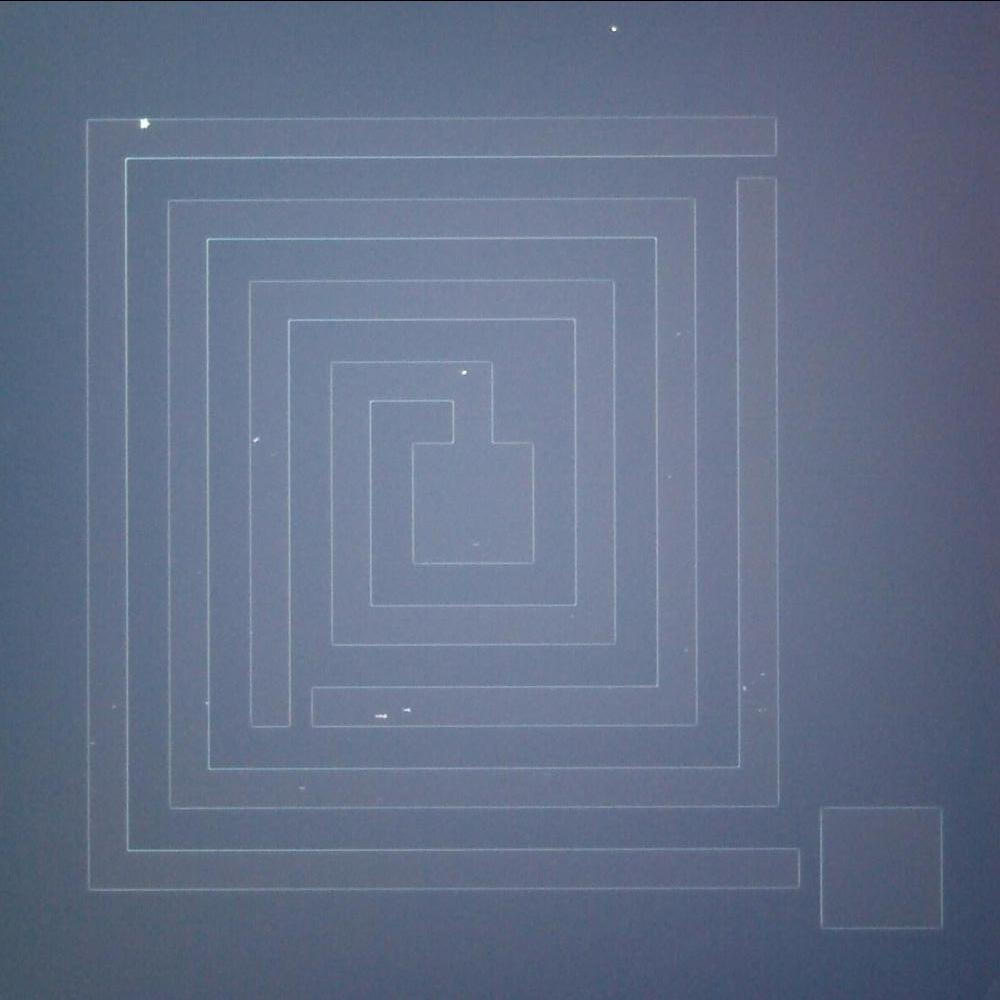dot: (599, 12, 630, 44), (452, 362, 482, 386)
short circuit: (728, 134, 788, 205), (271, 671, 328, 741), (777, 834, 837, 898)
spot: (133, 112, 157, 136)
